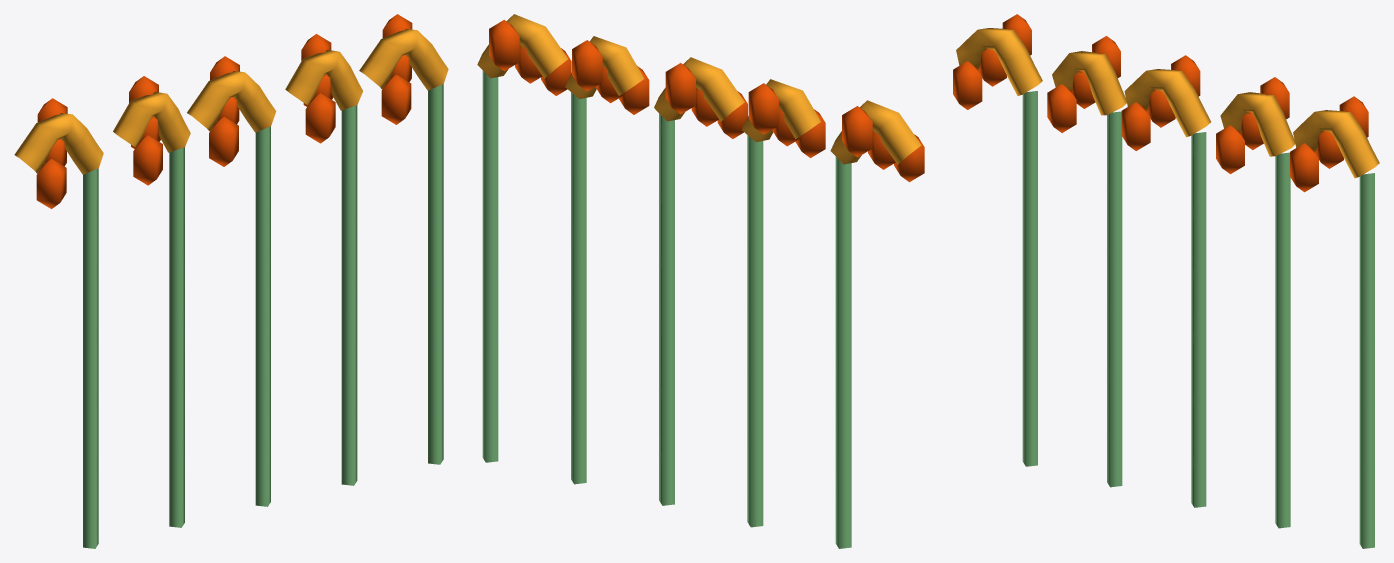
The model's file is padi.glb.
3 views of the same model, side by side, from view 1: azimuth 30°, elevation 25°; view 2: azimuth 150°, elevation 25°; view 3: azimuth 330°, elevation 25° (orthographic). The views are drawn at different scales.
Bounding box in the file's own units: 0.9951 × 0.986 × 0.1693.
